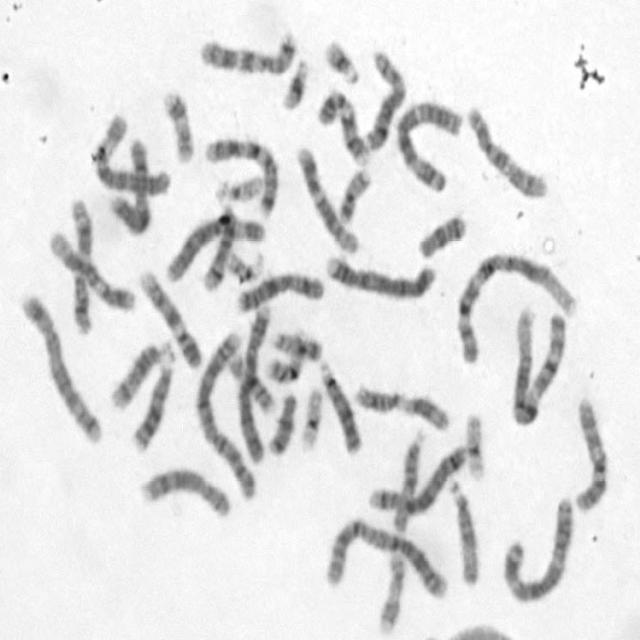A1: (452, 248, 578, 365), (507, 304, 568, 428)
A2: (193, 328, 260, 502), (320, 515, 450, 603)
A3: (499, 492, 575, 605), (393, 95, 464, 195)
B4: (234, 299, 274, 465), (322, 250, 437, 302)
B5: (18, 290, 105, 446), (366, 439, 472, 515)
C10: (464, 101, 549, 202), (570, 392, 610, 515)
C11: (350, 381, 451, 432), (68, 196, 93, 342)
C12: (45, 226, 138, 313), (293, 143, 360, 256)
C6: (162, 210, 268, 285), (90, 110, 172, 198)
C7: (202, 134, 280, 218), (197, 27, 298, 76)
C8: (138, 462, 232, 520), (360, 46, 408, 152)
C9: (137, 267, 204, 370), (314, 86, 371, 167)
D13: (317, 358, 363, 457), (129, 360, 175, 454)
D14: (107, 336, 176, 411), (199, 202, 237, 293)
D15: (445, 474, 481, 588), (390, 426, 426, 534)
E16: (225, 349, 277, 415), (263, 327, 309, 385)
E17: (374, 550, 407, 636), (160, 87, 194, 167)
E18: (415, 211, 469, 261), (264, 389, 298, 459)
F19: (297, 384, 324, 453), (462, 410, 486, 482)
F20: (336, 163, 373, 224), (271, 327, 323, 362)
G21: (322, 36, 362, 86), (279, 56, 310, 112)
G22: (211, 172, 265, 204), (226, 247, 266, 283)
X: (107, 134, 153, 235), (233, 268, 325, 315)
